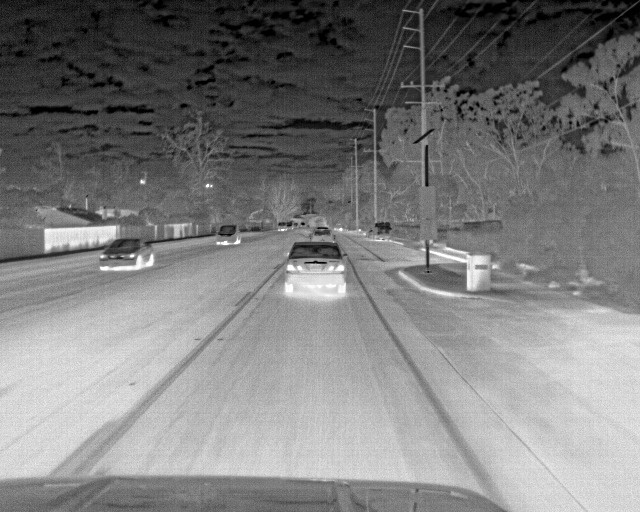vehicle: (288, 239, 347, 301), (99, 238, 158, 272), (215, 224, 243, 247)
